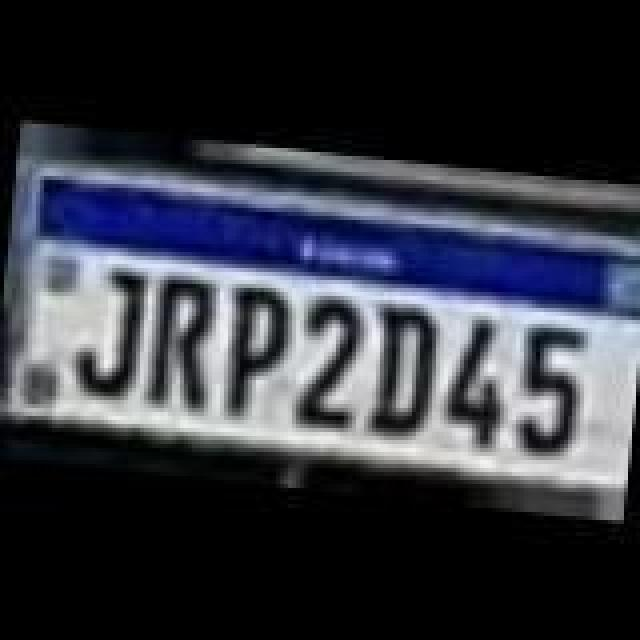2: (290, 292, 366, 436)
4: (442, 310, 518, 450)
5: (512, 320, 592, 464)
D: (370, 296, 446, 440)
J: (72, 262, 152, 402)
P: (220, 282, 292, 422)
R: (144, 268, 224, 412)
